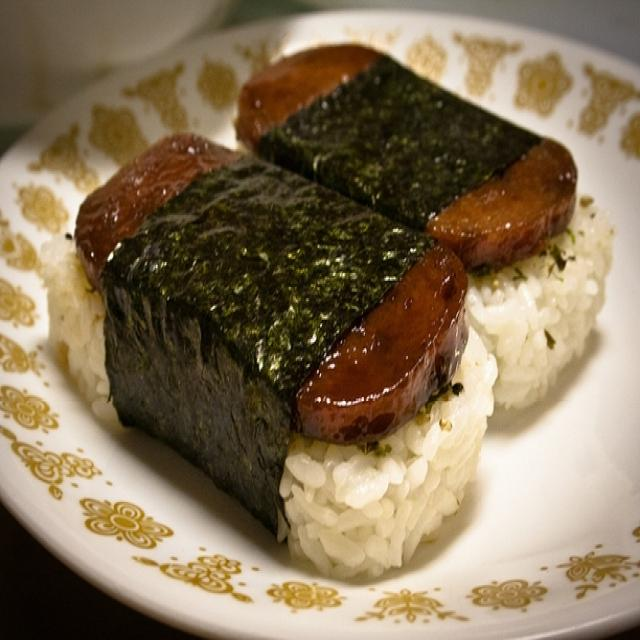寿司卷物: (38, 16, 610, 568)
